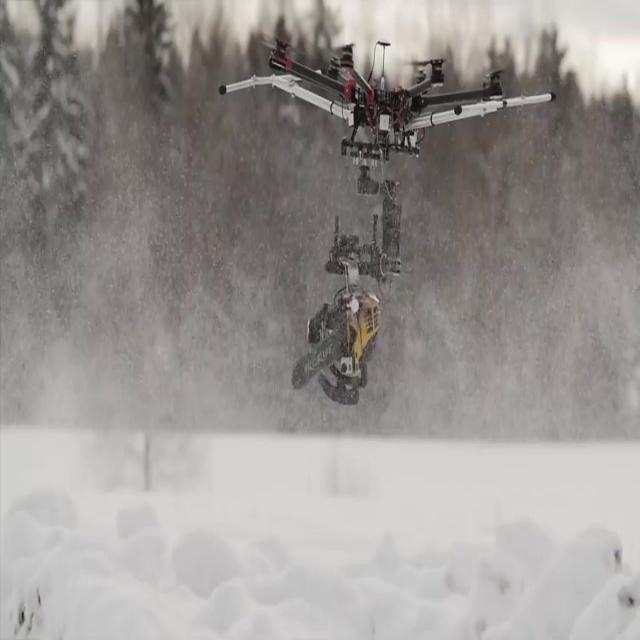drone: (219, 35, 557, 276)
